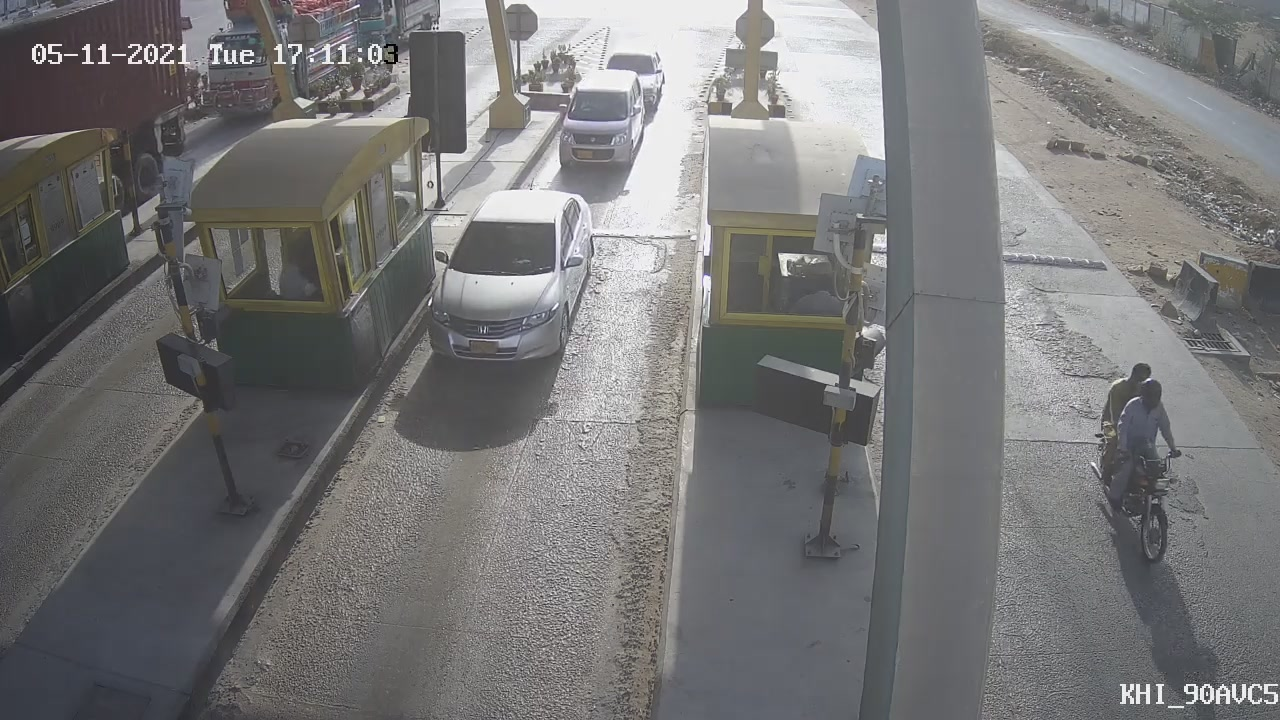F1: (408, 173, 618, 387), (539, 59, 661, 192)
